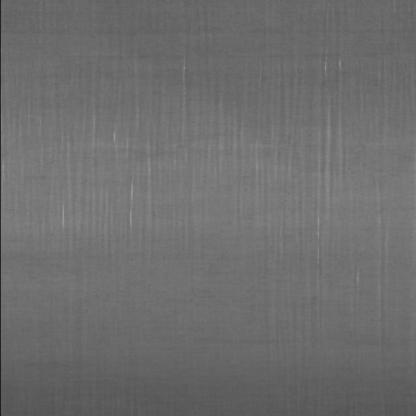waist_folding: (10, 15, 360, 396)
